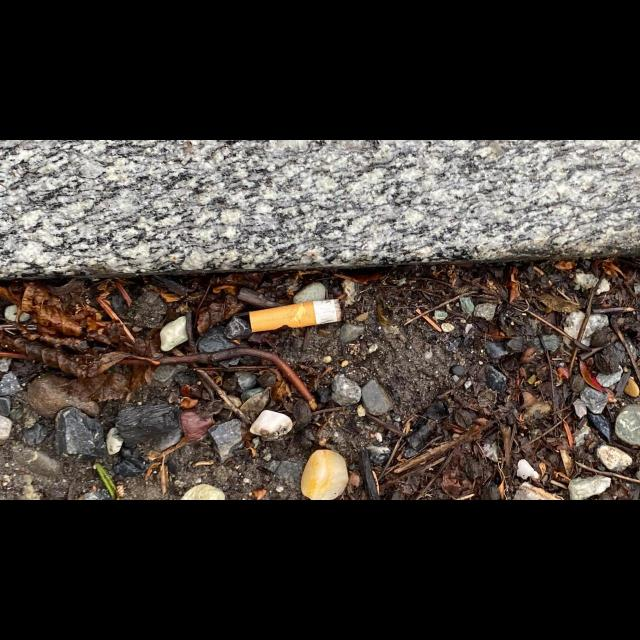cigarette: (248, 298, 342, 332)
